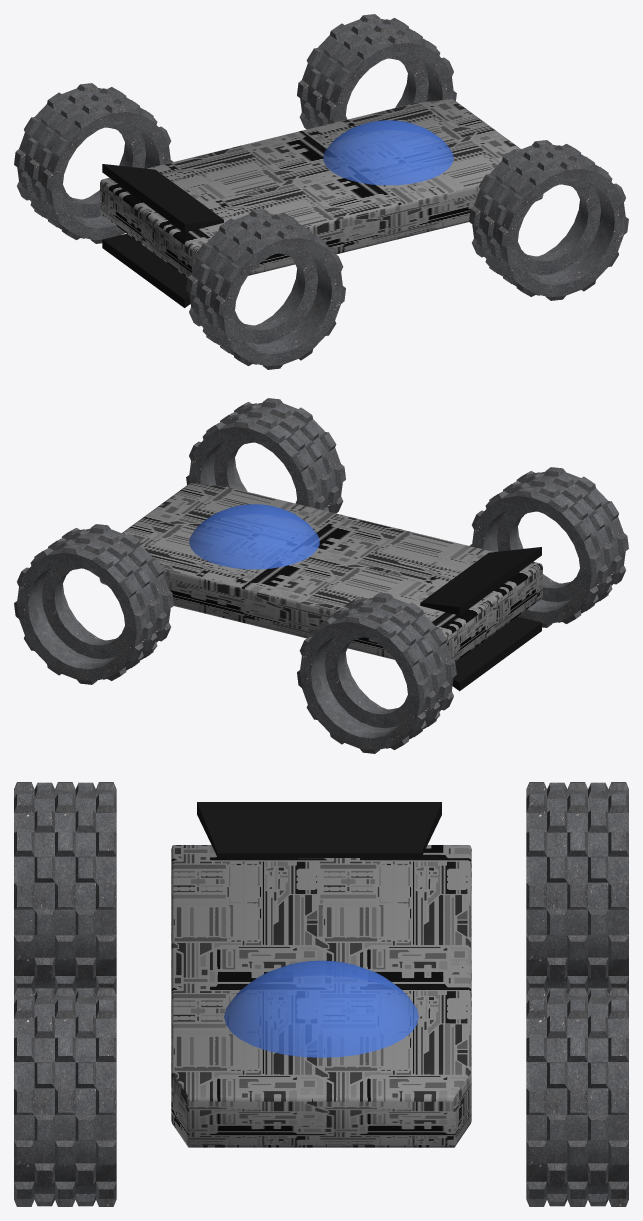
The model's file is car04.fbx.
3 views of the same model, one above another, from view 1: azimuth 30°, elevation 25°; view 2: azimuth 150°, elevation 25°; view 3: azimuth 270°, elevation 25° (orthographic). The views are drawn at different scales.
Parts seen in each view (by area): view 1: car_body, wheel_FL001, wheel_BL001, wheel_BL, wheel_FL; view 2: car_body, wheel_FL, wheel_BL, wheel_BL001, wheel_FL001; view 3: car_body, wheel_FL, wheel_FL001, wheel_BL, wheel_BL001.
Part boxes in pixels (box(x1,y1,x2,y2)): car_body: box(100, 99, 543, 307); wheel_FL001: box(469, 140, 628, 300); wheel_BL001: box(186, 209, 345, 369); wheel_BL: box(14, 83, 173, 243); wheel_FL: box(297, 14, 456, 129); car_body: box(99, 483, 542, 691); wheel_FL: box(14, 524, 173, 684); wheel_BL: box(297, 593, 456, 753); wheel_BL001: box(469, 467, 628, 627); wheel_FL001: box(186, 398, 345, 513); car_body: box(171, 802, 471, 1147); wheel_FL: box(526, 987, 628, 1206); wheel_FL001: box(14, 987, 116, 1206); wheel_BL: box(526, 782, 628, 993); wheel_BL001: box(14, 782, 116, 993).
Size of the model in its own units: 149 by 46.17 by 129.
4 materials, 2 textured.
